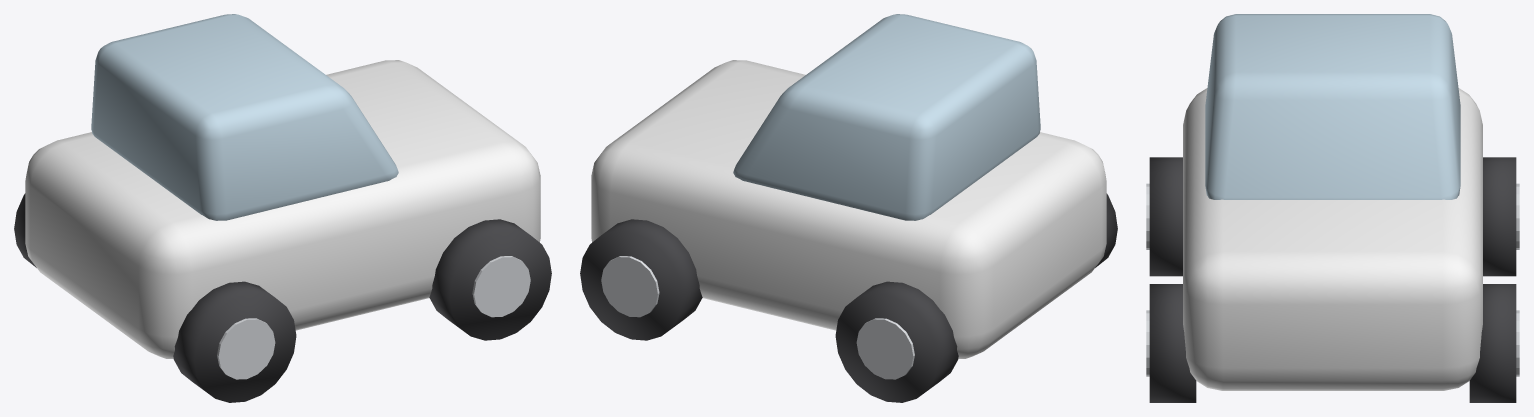
File: car.glb
3 views of the same model, side by side, from view 1: azimuth 30°, elevation 25°; view 2: azimuth 150°, elevation 25°; view 3: azimuth 270°, elevation 25° (orthographic).
Visible parts, largest first — view 1: body, cabin, wheel-0.045-0.048, wheel0.045-0.048, hub-0.045-0.048, hub0.045-0.048, wheel-0.0450.048; view 2: body, cabin, wheel-0.0450.048, wheel0.0450.048, hub-0.0450.048, hub0.0450.048, wheel-0.045-0.048; view 3: body, cabin, wheel0.0450.048, wheel0.045-0.048, wheel-0.0450.048, wheel-0.045-0.048.
Part boxes in pixels (box(x1,y1,x2,y2)): body: box(25, 60, 540, 358); cabin: box(91, 14, 398, 220); wheel-0.045-0.048: box(173, 281, 296, 402); wheel0.045-0.048: box(429, 219, 551, 340); hub-0.045-0.048: box(217, 318, 275, 379); hub0.045-0.048: box(472, 256, 530, 317); wheel-0.0450.048: box(14, 193, 36, 267); body: box(591, 60, 1106, 358); cabin: box(733, 14, 1040, 220); wheel-0.0450.048: box(835, 281, 958, 402); wheel0.0450.048: box(580, 219, 702, 340); hub-0.0450.048: box(856, 318, 914, 379); hub0.0450.048: box(601, 256, 659, 317); wheel-0.045-0.048: box(1095, 193, 1117, 267); body: box(1183, 88, 1482, 390); cabin: box(1205, 14, 1460, 199); wheel0.0450.048: box(1469, 284, 1516, 402); wheel0.045-0.048: box(1149, 284, 1196, 402); wheel-0.0450.048: box(1483, 157, 1516, 276); wheel-0.045-0.048: box(1149, 157, 1182, 276).
Bounding box in the file's own units: 0.14 × 0.086 × 0.112.
